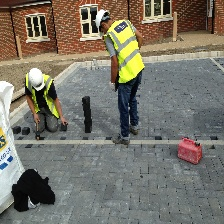helmet: (24, 66, 50, 94), (94, 8, 111, 34)
person: (94, 7, 146, 144), (23, 69, 63, 136)
vest: (101, 25, 148, 86)
